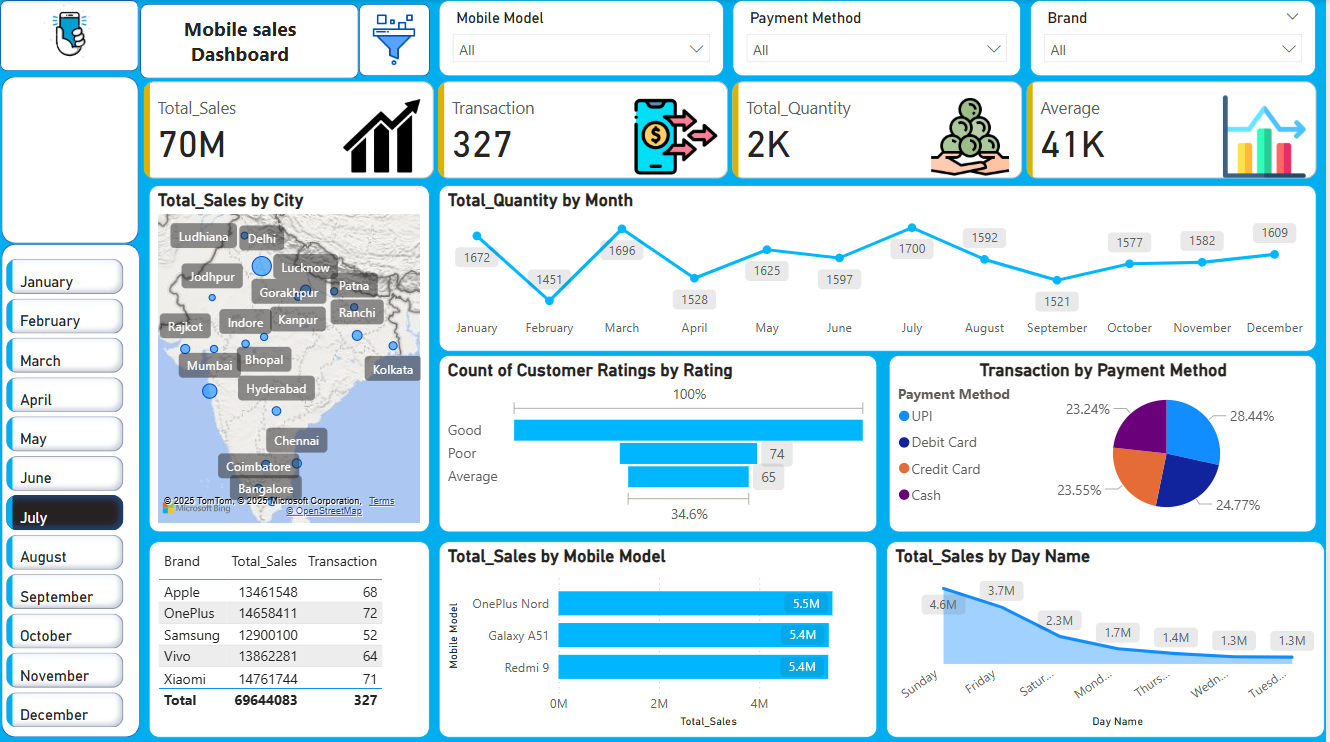

This screenshot's page, from the dashboard's own definition file:
{"tool":"powerbi","page":{"name":"Dash board","canvas":[1280,720],"ordinal":0},"visuals":[{"type":"shape","box":[0,0,133.9,68.8],"z":0},{"type":"image","box":[1.2,0,132.7,68.8],"z":1000},{"type":"shape","box":[1.2,73.6,132.7,161.7],"z":2000},{"type":"shape","box":[1.2,235.3,133.9,476.5],"z":3000},{"type":"advancedSlicerVisual","fields":{"Values":["Custom_calender.Date.Variation.Date Hierarchy.Month"]},"box":[1.2,244.9,123.1,466.9],"z":4000},{"type":"cardVisual","fields":{"Data":["sales data.Total_Sales","sales data.Transaction","sales data.Total_Quantity","sales data.Average"]},"box":[133.9,73.6,1144.9,105],"z":5000},{"type":"slicer","fields":{"Values":["sales data.Mobile Model"]},"box":[423.5,0,275.1,73.6],"z":6000},{"type":"slicer","fields":{"Values":["sales data.Payment Method"]},"box":[707,0,278.7,73.6],"z":7000},{"type":"slicer","fields":{"Values":["sales data.Mobile Model"]},"box":[423.5,0,275.1,73.6],"z":8000},{"type":"slicer","fields":{"Values":["sales data.Brand"]},"box":[994.1,0,276.3,73.6],"z":9000},{"type":"shape","box":[346.2,3.6,68.8,70],"z":10000},{"type":"image","box":[346.2,8.4,68.8,60.3],"z":11000},{"type":"shape","box":[135.1,3.6,211.1,72.4],"z":12000},{"type":"textbox","box":[143.6,9.7,176.1,60.3],"z":13000},{"type":"map","fields":{"Category":["sales data.City"],"Size":["sales data.Total_Sales"]},"box":[143.6,178.6,271.4,335.4],"z":14000},{"type":"lineChart","fields":{"Category":["Custom_calender.Date.Variation.Date Hierarchy.Month"],"Y":["sales data.Total_Quantity"]},"box":[423.5,178.6,846.9,160.5],"z":15000},{"type":"funnel","fields":{"Category":["sales data.Rating"],"Y":["CountNonNull(sales data.Customer Ratings)"]},"box":[423.5,342.6,423.5,171.3],"z":16000},{"type":"pieChart","fields":{"Y":["sales data.Transaction"],"Category":["sales data.Payment Method"]},"box":[857.8,342.6,412.6,171.3],"z":17000},{"type":"clusteredBarChart","fields":{"Category":["sales data.Mobile Model"],"Y":["sales data.Total_Sales"]},"box":[423.5,522.4,423.5,189.4],"z":18000},{"type":"areaChart","fields":{"Category":["Custom_calender.Day Name"],"Y":["sales data.Total_Sales"]},"box":[855.4,522.4,423.5,189.4],"z":19000},{"type":"tableEx","fields":{"Values":["sales data.Brand","sales data.Total_Sales","sales data.Transaction"]},"box":[143.6,522.4,271.4,189.4],"z":20000}]}

Visuals, with their boxes in screenshot pixels (x1, y1, x2, y2), scaled from the page's 1280x720 canvas onto the 1330x742 screenshot:
shape: [x1=0, y1=0, x2=139, y2=71]
image: [x1=1, y1=0, x2=139, y2=71]
shape: [x1=1, y1=76, x2=139, y2=242]
shape: [x1=1, y1=242, x2=140, y2=734]
advancedSlicerVisual - Custom_calender.Date.Variation.Date Hierarchy.Month: [x1=1, y1=252, x2=129, y2=734]
cardVisual - sales data.Total_Sales x sales data.Transaction: [x1=139, y1=76, x2=1329, y2=184]
slicer - sales data.Mobile Model: [x1=440, y1=0, x2=726, y2=76]
slicer - sales data.Payment Method: [x1=735, y1=0, x2=1024, y2=76]
slicer - sales data.Mobile Model: [x1=440, y1=0, x2=726, y2=76]
slicer - sales data.Brand: [x1=1033, y1=0, x2=1320, y2=76]
shape: [x1=360, y1=4, x2=431, y2=76]
image: [x1=360, y1=9, x2=431, y2=71]
shape: [x1=140, y1=4, x2=360, y2=78]
textbox: [x1=149, y1=10, x2=332, y2=72]
map - sales data.City x sales data.Total_Sales: [x1=149, y1=184, x2=431, y2=530]
lineChart - Custom_calender.Date.Variation.Date Hierarchy.Month x sales data.Total_Quantity: [x1=440, y1=184, x2=1320, y2=349]
funnel - sales data.Rating x CountNonNull(sales data.Customer Ratings): [x1=440, y1=353, x2=880, y2=530]
pieChart - sales data.Transaction x sales data.Payment Method: [x1=891, y1=353, x2=1320, y2=530]
clusteredBarChart - sales data.Mobile Model x sales data.Total_Sales: [x1=440, y1=538, x2=880, y2=734]
areaChart - Custom_calender.Day Name x sales data.Total_Sales: [x1=889, y1=538, x2=1329, y2=734]
tableEx - sales data.Brand x sales data.Total_Sales: [x1=149, y1=538, x2=431, y2=734]
